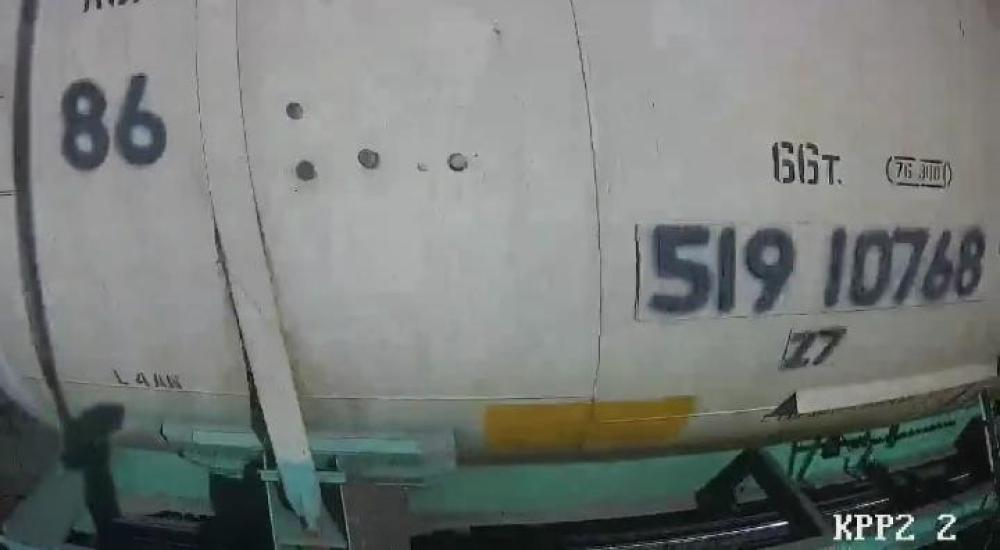Wagon-number: (646, 220, 990, 317)
